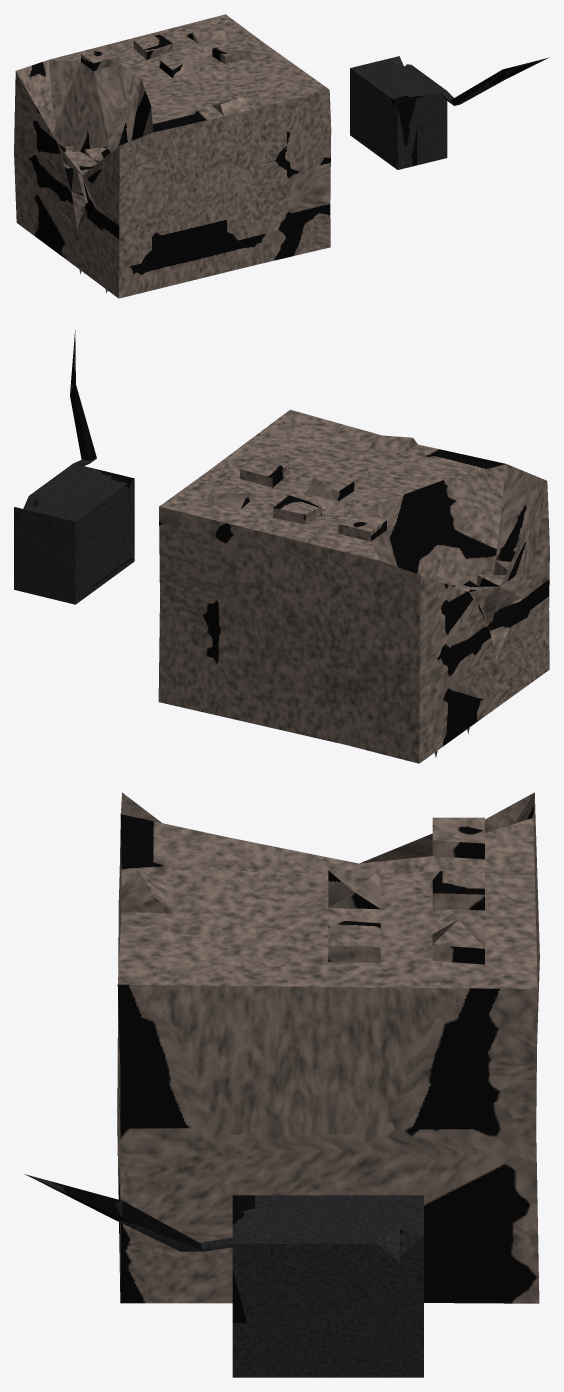
Rendered from forge_anvil_r3.glb.
3 views of the same model, one above another, from view 1: azimuth 30°, elevation 25°; view 2: azimuth 150°, elevation 25°; view 3: azimuth 270°, elevation 25° (orthographic). The views are drawn at different scales.
Visible parts, largest first — view 1: forge_lp, anvil_lp; view 2: forge_lp, anvil_lp; view 3: forge_lp, anvil_lp.
Boxes of the visible parts, x1=… form: forge_lp: x1=14, y1=14, x2=331, y2=298; anvil_lp: x1=350, y1=56, x2=549, y2=169; forge_lp: x1=158, y1=409, x2=549, y2=763; anvil_lp: x1=14, y1=330, x2=134, y2=604; forge_lp: x1=117, y1=792, x2=539, y2=1303; anvil_lp: x1=25, y1=1174, x2=423, y2=1377.
Bounding box in the file's own units: 5.41 × 2.5 × 2.97.
2 materials, 2 textured.
